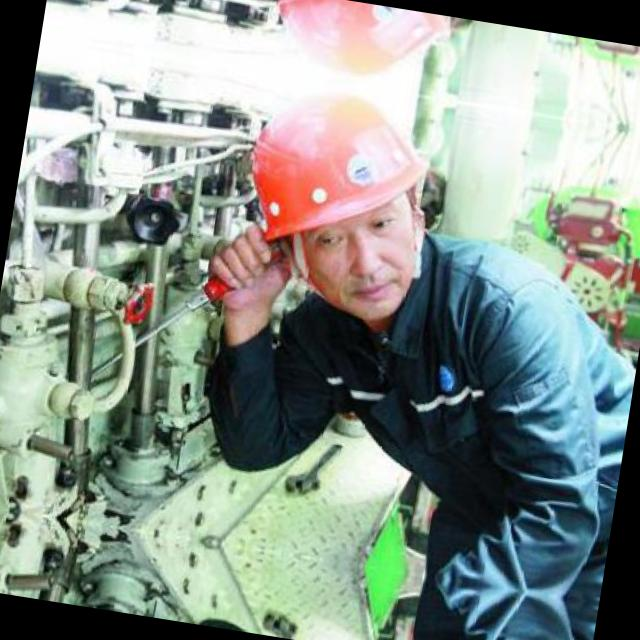helmet: (210, 73, 454, 331), (247, 0, 469, 98)
